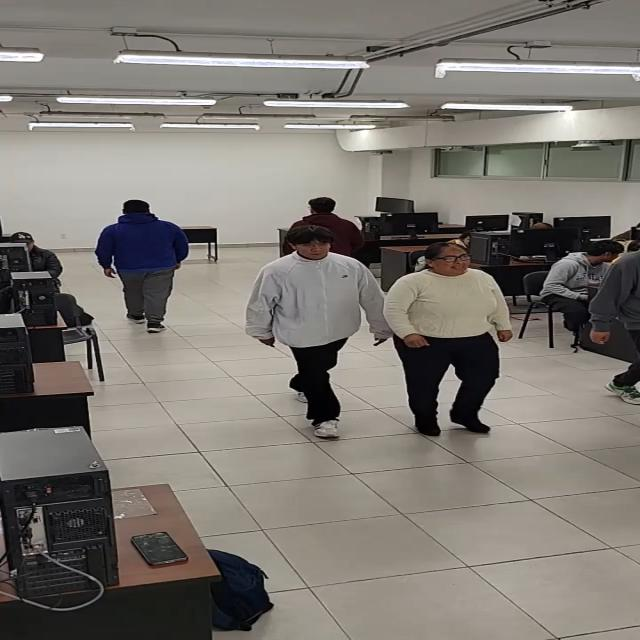Persona: (245, 225, 393, 439), (383, 233, 515, 437), (94, 197, 192, 334), (282, 196, 366, 274)
